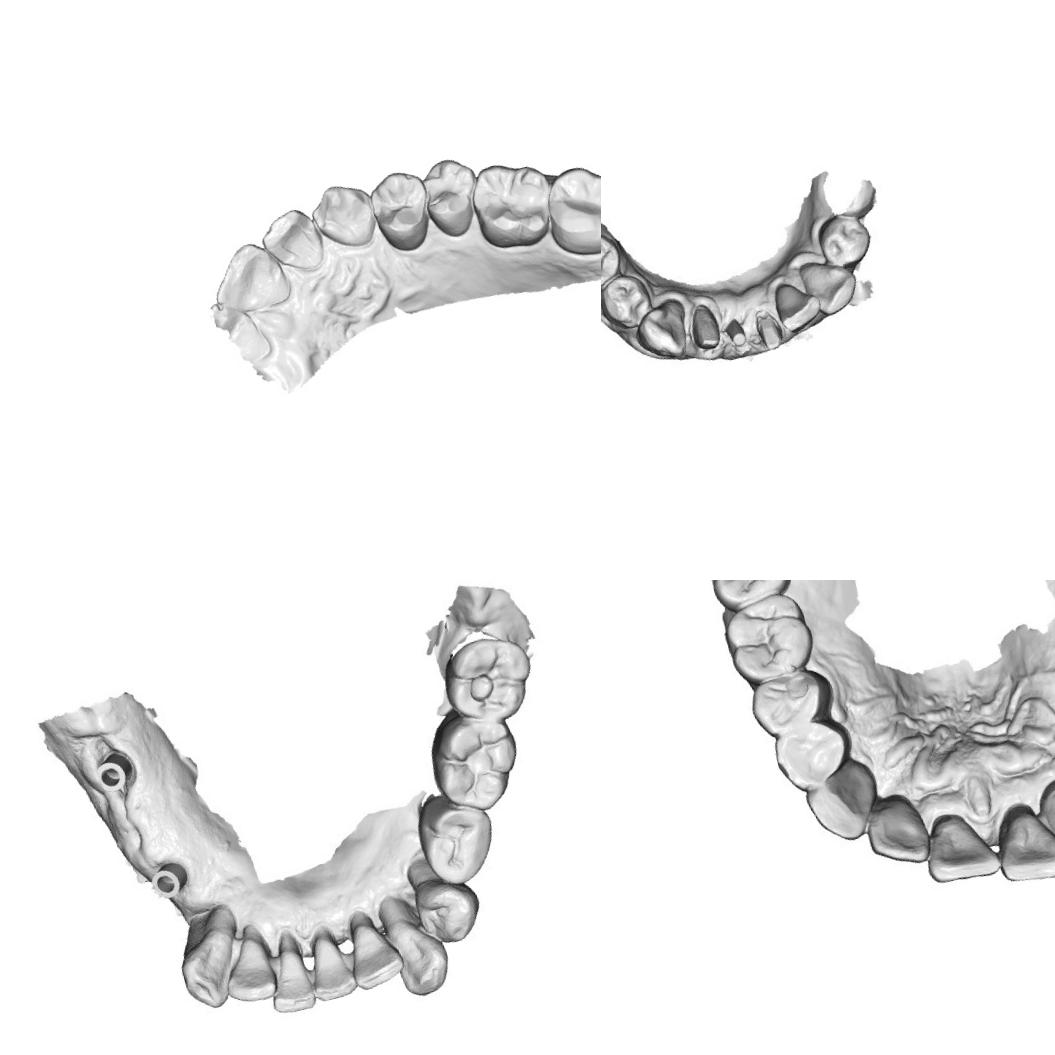abutment: (720, 312, 756, 352)
canine: (374, 888, 457, 1000), (800, 756, 885, 853), (170, 906, 247, 1009), (305, 176, 380, 258), (629, 294, 696, 364), (794, 248, 860, 318)
crown: (686, 300, 725, 356), (750, 303, 788, 352)
implant: (144, 847, 196, 904), (88, 745, 140, 801)
incisor: (203, 233, 296, 320), (918, 804, 1002, 886), (337, 905, 410, 994), (859, 788, 938, 869), (255, 927, 324, 1019), (214, 922, 282, 1011), (987, 800, 1055, 887), (252, 202, 327, 278), (301, 924, 360, 1006), (770, 277, 826, 337), (1037, 773, 1055, 861)
molar: (422, 703, 528, 816), (462, 150, 562, 258), (439, 628, 539, 726), (716, 590, 816, 684), (533, 154, 601, 265), (702, 580, 790, 604)
premolar: (409, 784, 506, 892), (764, 711, 860, 796), (744, 660, 836, 740), (361, 162, 436, 257), (413, 152, 488, 244), (406, 866, 484, 948), (812, 209, 875, 274), (601, 273, 653, 332), (601, 226, 632, 292)
